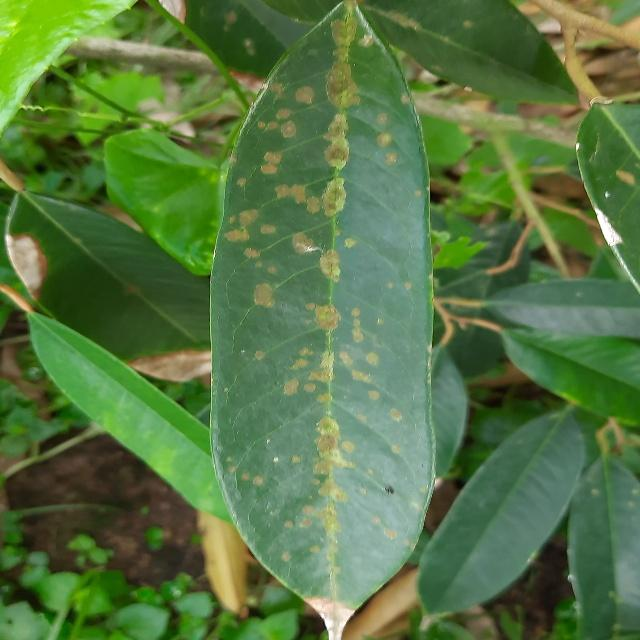Algal Leaf Spot: (206, 0, 449, 640)
